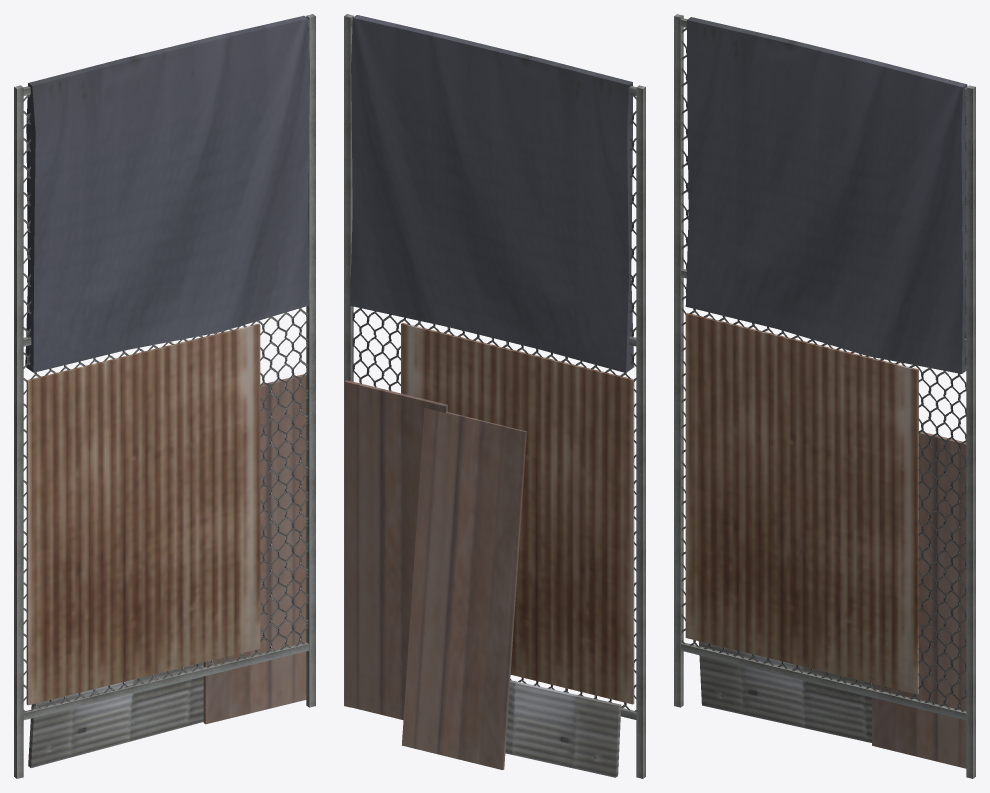
Rendered from mallbil_sidefence01c.fbx.
3 views of the same model, side by side, from view 1: azimuth 30°, elevation 25°; view 2: azimuth 150°, elevation 25°; view 3: azimuth 330°, elevation 25° (orthographic).
Visible parts, largest first — view 1: mallbil_sidefence01c; view 2: mallbil_sidefence01c; view 3: mallbil_sidefence01c.
Part boxes in pixels (x1,y1,x2,y2): mallbil_sidefence01c: (14,14,315,778); mallbil_sidefence01c: (344,14,645,778); mallbil_sidefence01c: (674,14,975,778).
Bounding box in the file's own units: 154 × 30.15 × 341.
2 materials, 2 textured.
